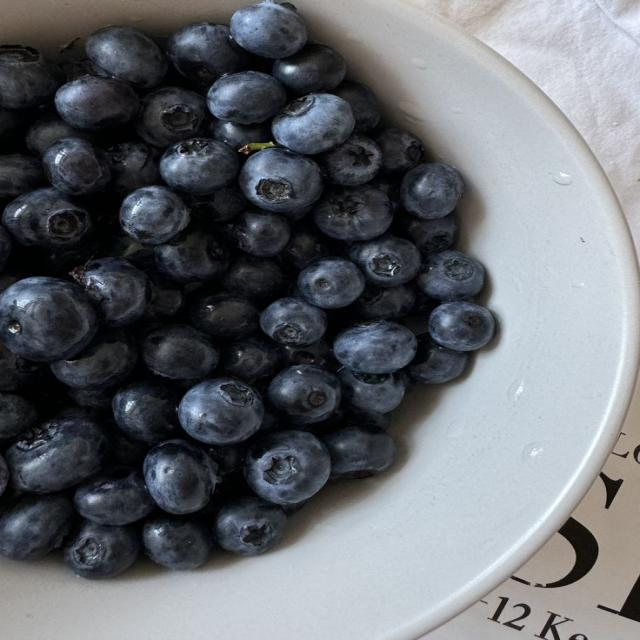blueberry: (0, 278, 98, 362), (6, 414, 109, 493), (245, 430, 330, 504), (3, 188, 92, 251), (179, 378, 263, 444), (144, 440, 218, 514), (167, 22, 251, 87), (239, 148, 322, 212), (50, 329, 137, 390), (73, 258, 150, 326), (86, 26, 167, 89), (273, 93, 354, 153), (0, 494, 73, 560), (74, 468, 154, 525), (55, 76, 139, 129), (136, 87, 210, 147), (314, 185, 393, 241), (160, 139, 239, 195), (112, 381, 182, 444), (230, 0, 306, 58), (267, 365, 341, 424), (65, 521, 139, 579), (140, 325, 219, 379), (334, 321, 416, 373), (207, 71, 286, 124), (214, 497, 286, 555), (120, 185, 189, 244), (155, 229, 228, 283), (43, 138, 111, 195), (0, 46, 62, 108), (142, 516, 213, 570), (273, 43, 346, 95), (349, 235, 421, 287), (323, 426, 395, 478), (400, 163, 464, 219), (298, 257, 365, 308), (416, 250, 484, 300), (429, 301, 495, 351), (317, 134, 381, 185), (260, 297, 326, 346), (189, 293, 259, 339), (220, 255, 290, 299), (407, 334, 468, 383), (339, 368, 405, 413), (27, 114, 94, 157), (230, 210, 290, 257), (107, 142, 160, 195), (220, 336, 279, 382), (187, 184, 248, 227), (334, 81, 380, 132), (354, 284, 416, 319), (376, 128, 425, 172), (0, 154, 46, 200), (400, 215, 457, 252), (281, 226, 330, 269), (100, 231, 154, 269), (0, 343, 41, 392), (144, 271, 185, 320), (278, 340, 339, 371), (107, 425, 149, 468), (212, 121, 272, 150), (0, 393, 36, 441), (207, 443, 246, 483), (370, 172, 401, 213), (68, 388, 113, 411), (408, 288, 439, 320), (0, 107, 26, 144), (59, 59, 98, 82), (343, 412, 390, 431), (260, 404, 281, 431), (0, 226, 12, 273), (282, 205, 313, 223), (280, 500, 307, 516), (0, 455, 8, 496)
